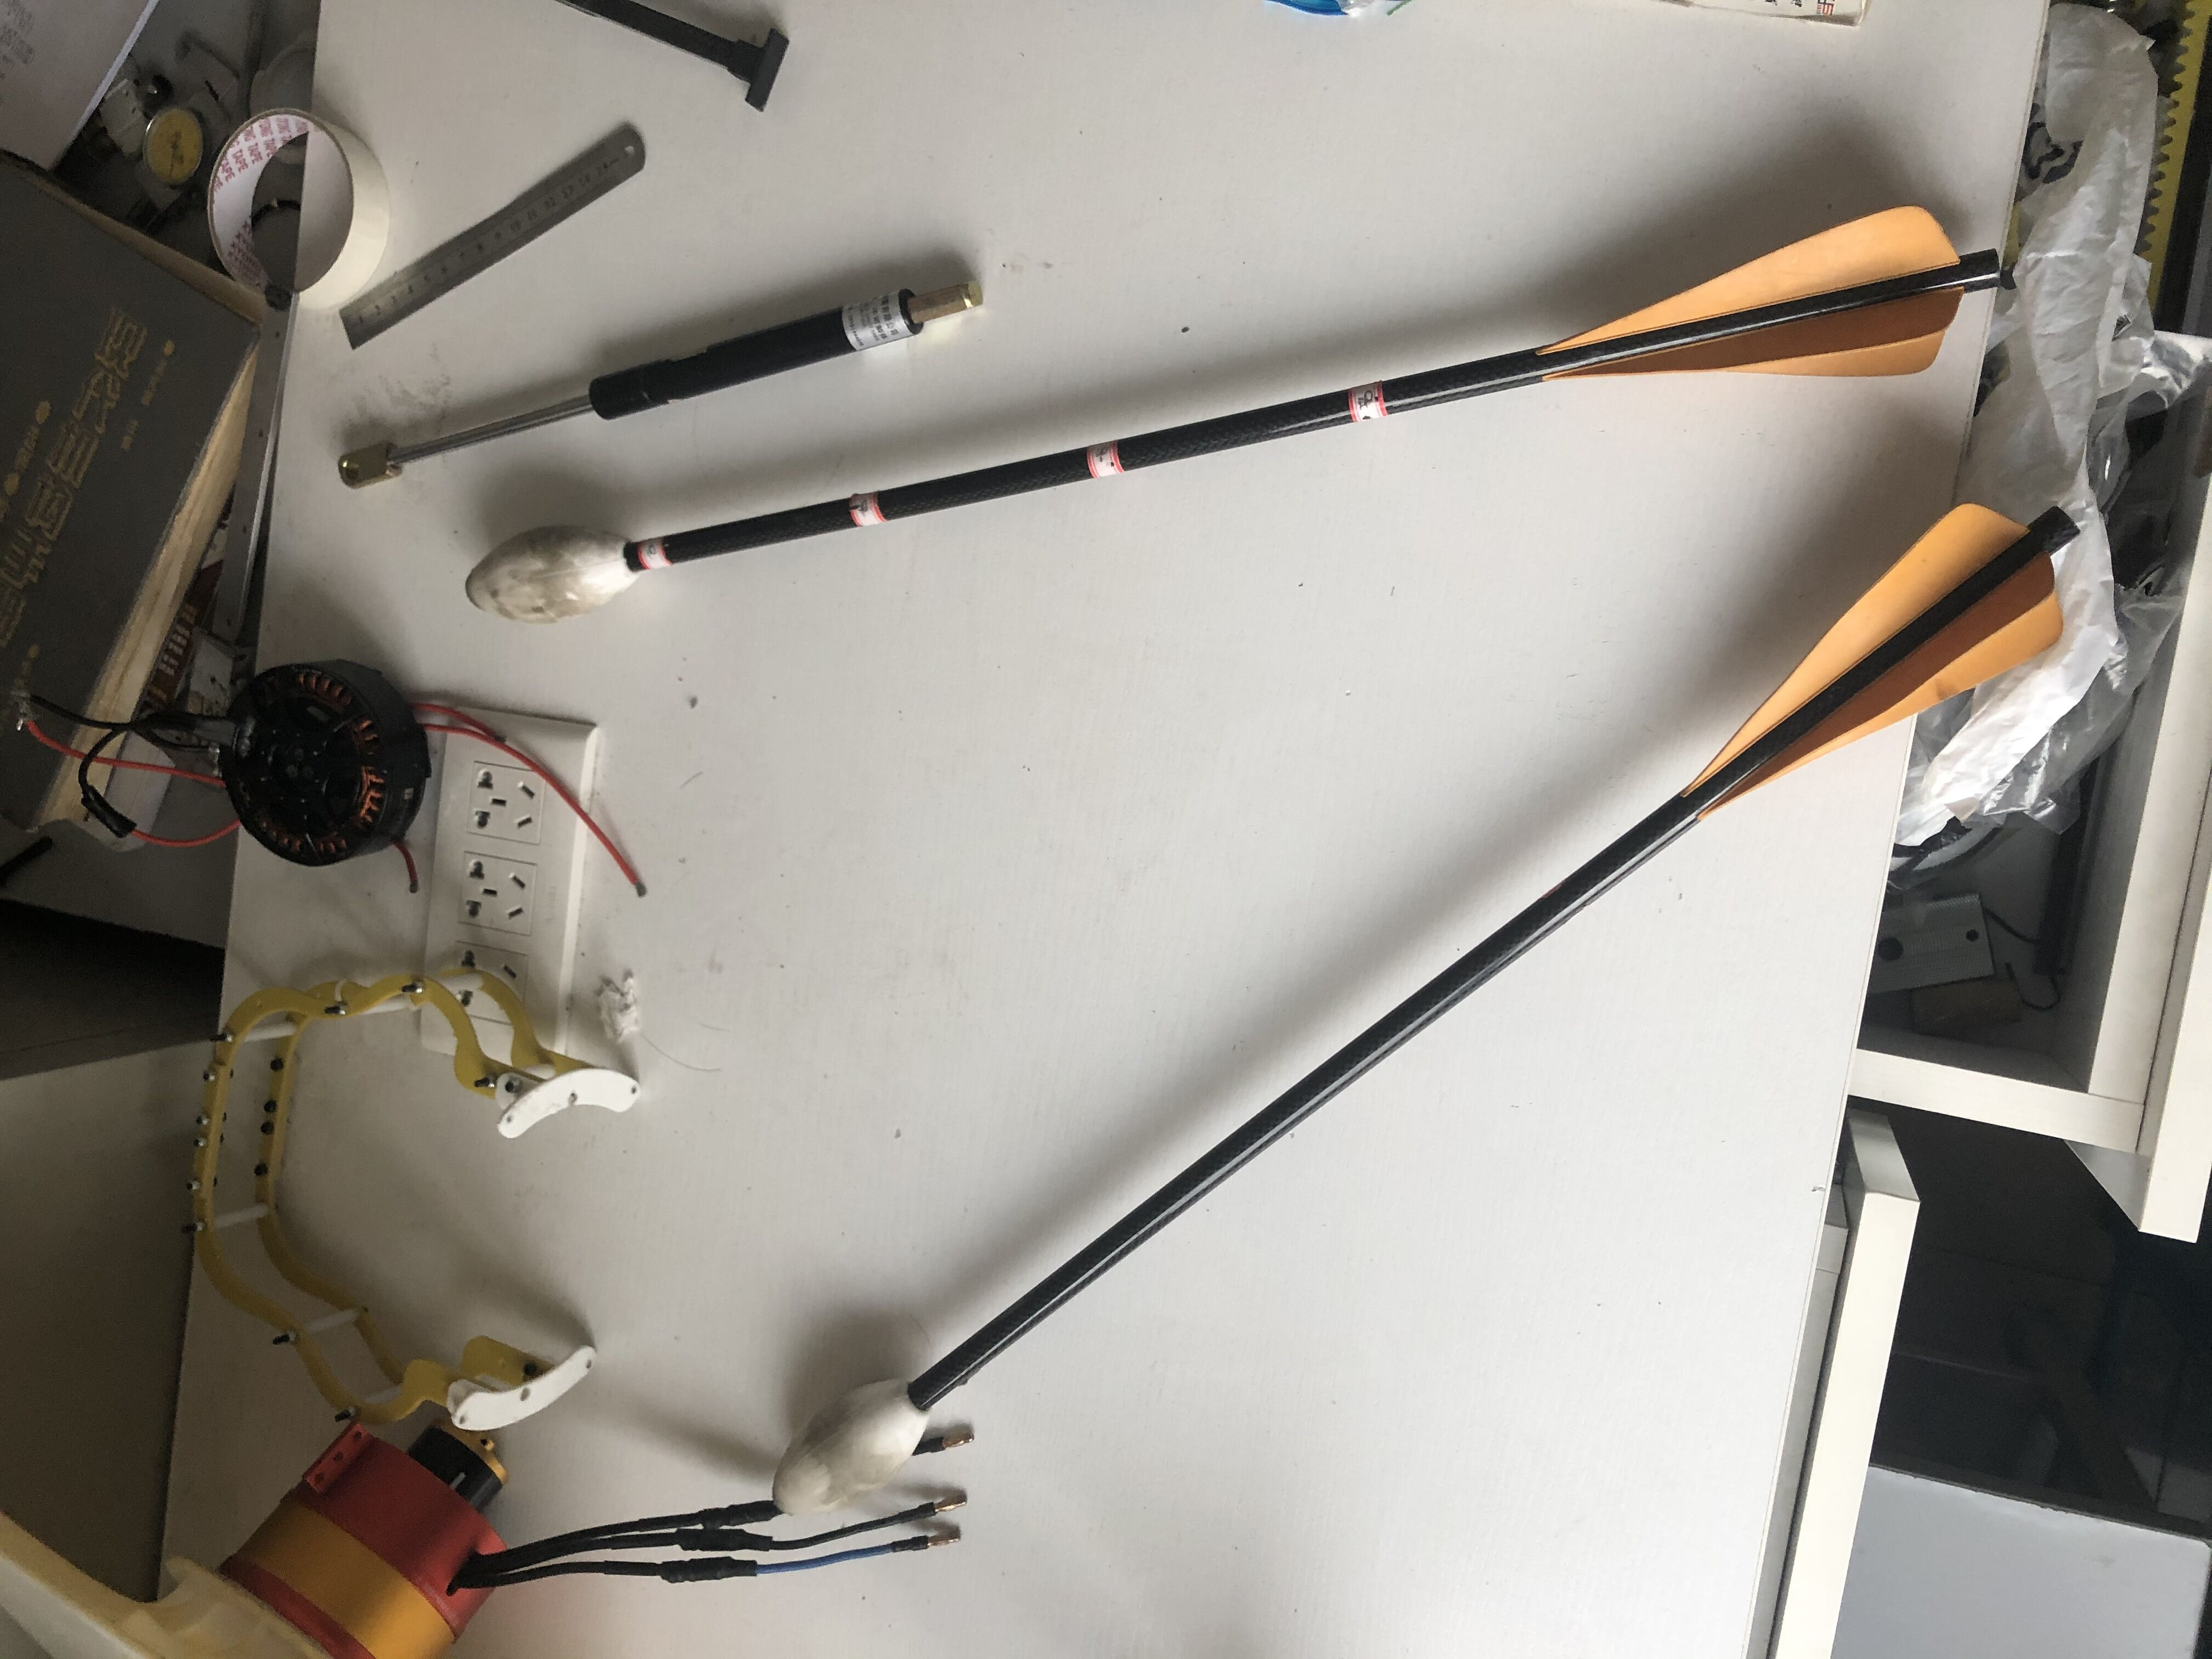arrow: (772, 498, 2088, 1520), (465, 202, 2006, 624)
arrowFront: (772, 1380, 932, 1527), (463, 523, 641, 622)
